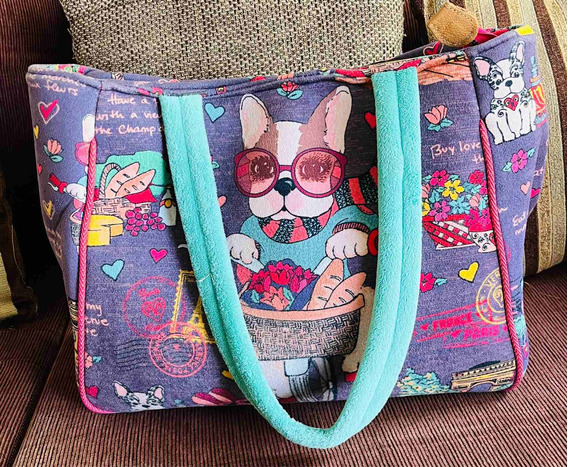cartera: (29, 25, 528, 442)
